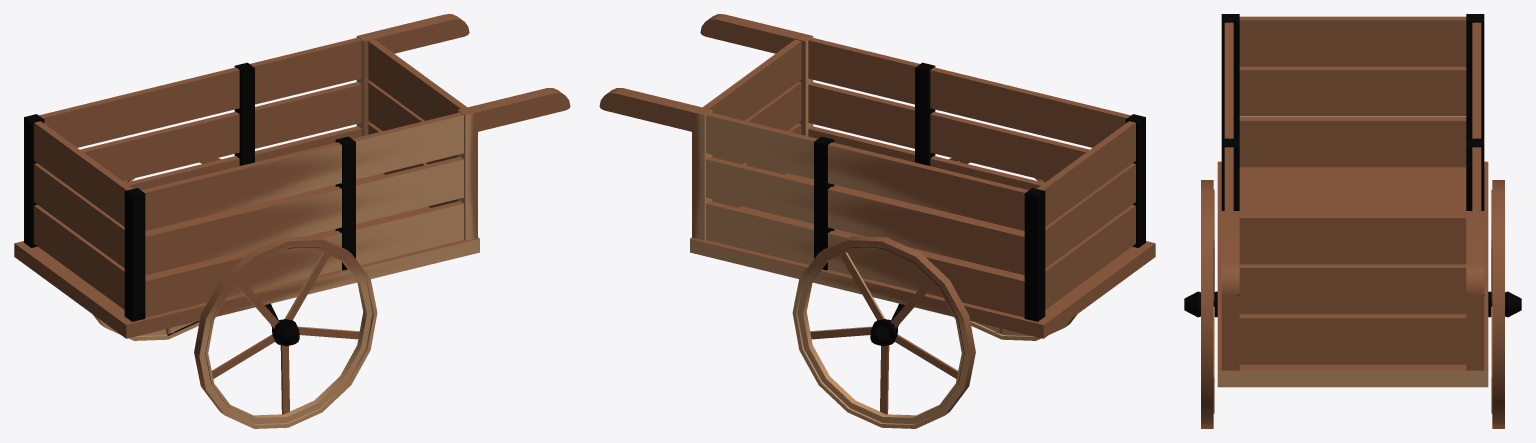
The model's file is cart.glb.
The picture shows the model from 3 angles, left to right: view 1: azimuth 30°, elevation 25°; view 2: azimuth 150°, elevation 25°; view 3: azimuth 270°, elevation 25°; orthographic projection. The views are drawn at different scales.
Visible parts, largest first — view 1: cart, Cylinder.002, Cylinder.003, Cube.003; view 2: cart, Cylinder.003, Cylinder.002, Cube.003; view 3: cart, Cylinder.002, Cylinder.003, Cube.003.
Part boxes in pixels (x1,y1,x2,y2): cart: [14, 14, 570, 338]; Cylinder.002: [194, 236, 377, 428]; Cylinder.003: [92, 158, 220, 340]; Cube.003: [265, 303, 299, 346]; cart: [599, 14, 1155, 338]; Cylinder.003: [792, 236, 975, 428]; Cylinder.002: [949, 158, 1077, 340]; Cube.003: [870, 303, 904, 346]; cart: [1217, 14, 1488, 387]; Cylinder.002: [1201, 180, 1214, 428]; Cylinder.003: [1491, 180, 1504, 428]; Cube.003: [1184, 291, 1521, 317].
Bounding box in the file's own units: 2.89 × 1.62 × 1.56.
1 material, 1 textured.
